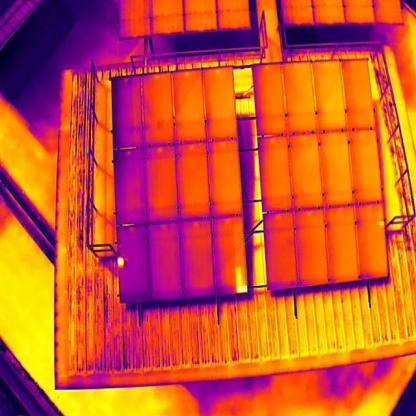anomaly: (231, 265, 251, 294), (117, 256, 125, 268)
